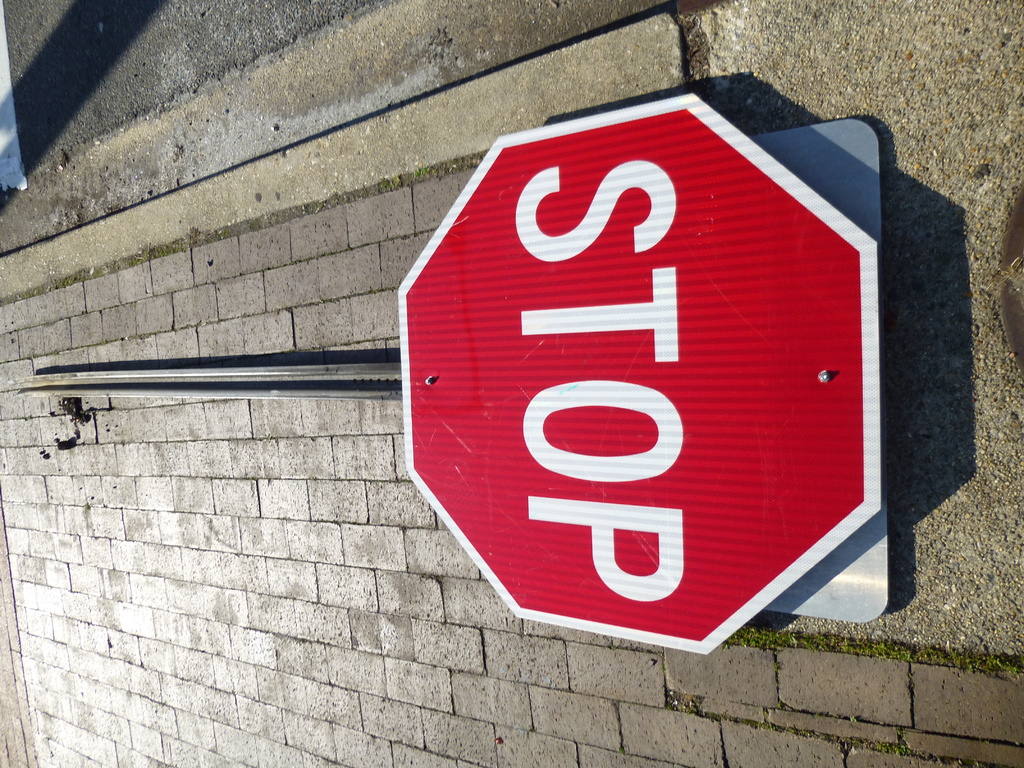stop_sign: (403, 95, 881, 654)
